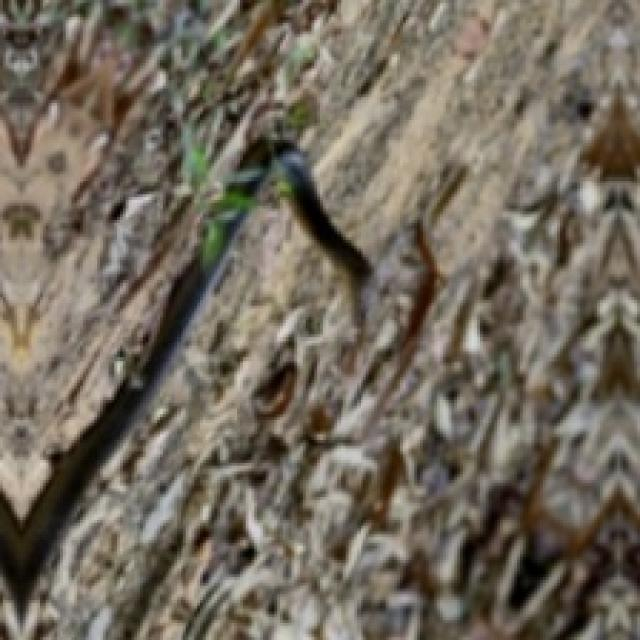king cobra: (0, 0, 637, 637), (0, 0, 366, 637), (0, 137, 369, 620)
